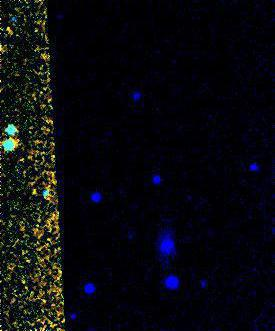star: (19, 174, 49, 204)
